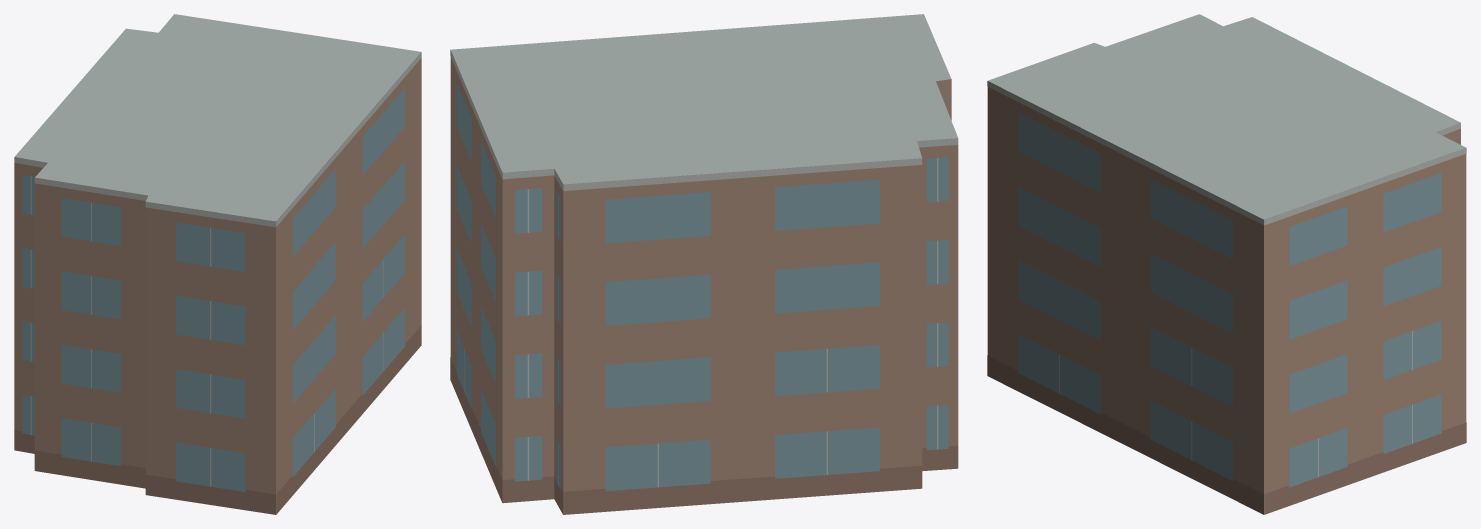
File: survey-upis-32734344.glb
3 renders of one model, left to right at view 1: azimuth 30°, elevation 25°; view 2: azimuth 150°, elevation 25°; view 3: azimuth 270°, elevation 25°, orthographic. The views are drawn at different scales.
Visible parts, largest first — view 1: survey-upis-32734344.tmp; view 2: survey-upis-32734344.tmp; view 3: survey-upis-32734344.tmp.
Boxes of the visible parts, x1,y1,x2,y2 form: survey-upis-32734344.tmp: (14,14,421,514); survey-upis-32734344.tmp: (450,14,958,514); survey-upis-32734344.tmp: (987,14,1466,514).
Size of the model in its own units: 18.24 by 12.2 by 17.95.
